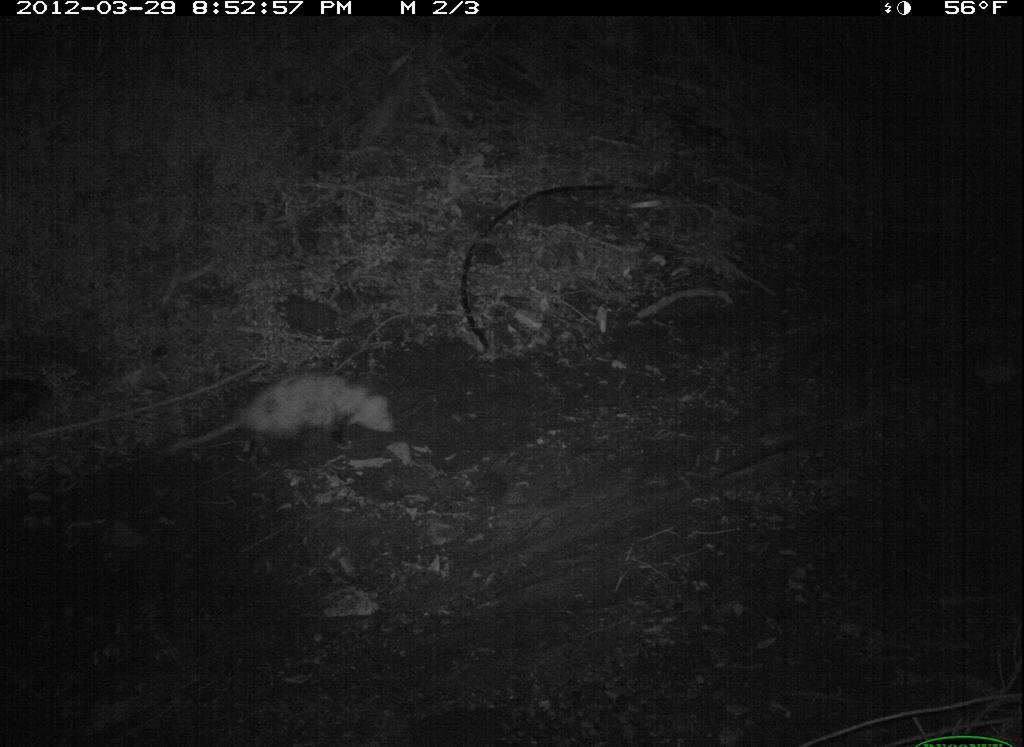opossum: (151, 365, 423, 479)
